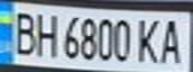0: (112, 16, 136, 63), (97, 15, 118, 62)
6: (57, 12, 81, 61)
8: (78, 14, 100, 62)
A: (157, 15, 187, 65)
B: (9, 7, 39, 56)
H: (33, 9, 60, 58)
K: (133, 16, 163, 64)
